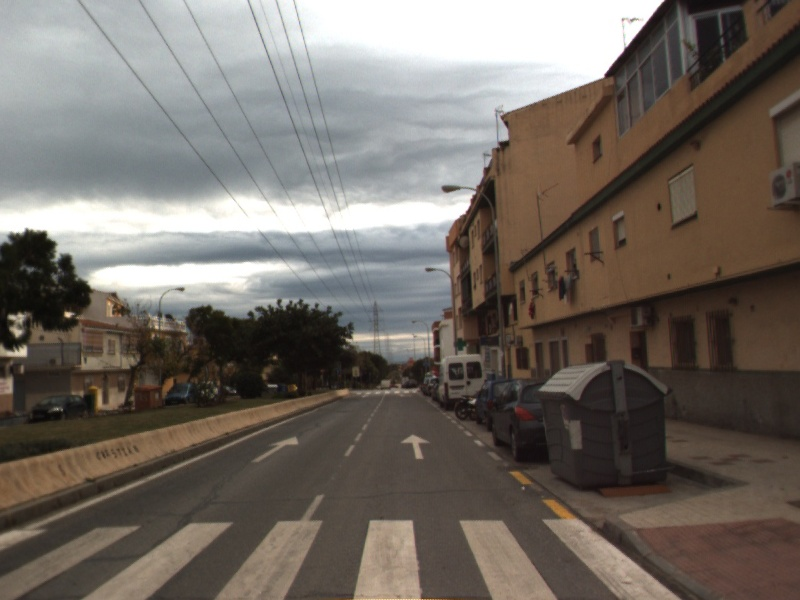STRAIGHT: (249, 434, 301, 464), (399, 432, 433, 461)
